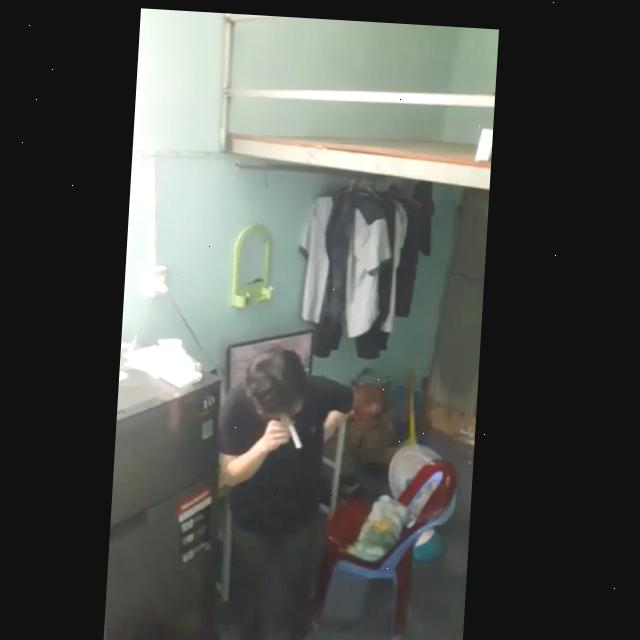cigarette: (293, 419, 310, 445)
